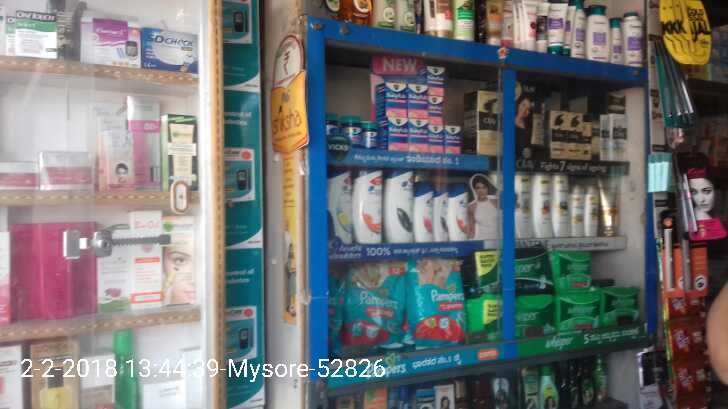beauty: (350, 165, 387, 245), (383, 166, 413, 242), (329, 167, 354, 251), (598, 107, 629, 165), (411, 179, 437, 241), (529, 178, 555, 239), (550, 171, 574, 237), (561, 110, 587, 163), (449, 182, 471, 242), (582, 181, 603, 241), (514, 173, 532, 239), (603, 175, 619, 238), (545, 108, 564, 160), (435, 189, 453, 239), (570, 188, 584, 235)
pharmacy: (342, 257, 415, 354), (406, 252, 467, 352), (469, 292, 556, 345), (471, 250, 549, 281), (558, 292, 603, 328), (604, 288, 645, 323), (374, 76, 408, 116), (553, 250, 591, 285), (387, 116, 411, 152), (407, 122, 430, 153), (404, 82, 423, 117), (423, 120, 443, 152), (361, 121, 379, 148), (342, 120, 361, 145), (452, 120, 466, 153), (427, 86, 442, 115), (427, 59, 441, 81)
